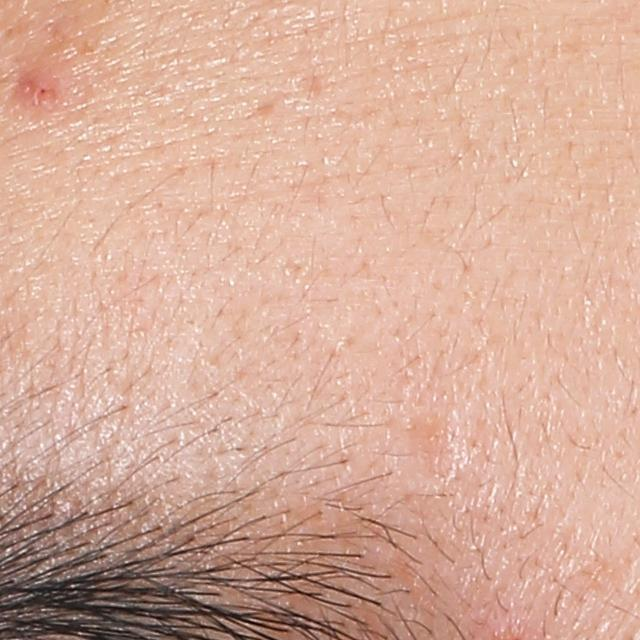atrophic_scar: (391, 397, 463, 494)
papule: (19, 68, 61, 106)
